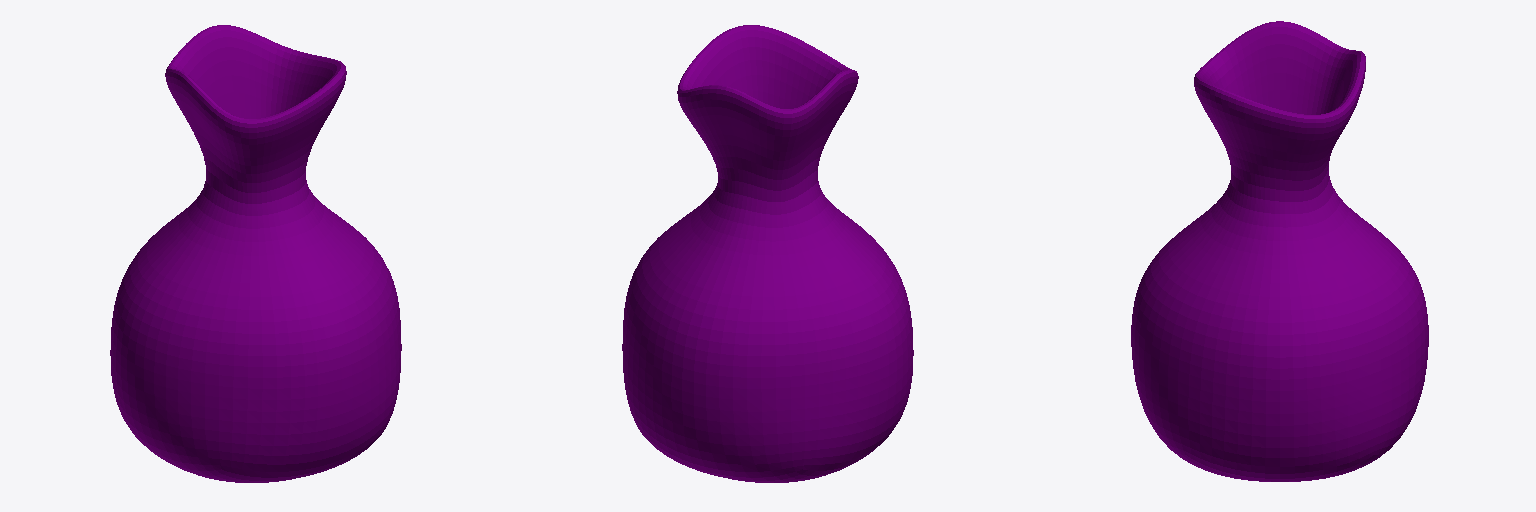
The model's file is pouch_bawang.obj.
The picture shows the model from 3 angles: view 1: azimuth 30°, elevation 25°; view 2: azimuth 150°, elevation 25°; view 3: azimuth 270°, elevation 25°; orthographic projection.
Visible parts, largest first — view 1: Cube.001; view 2: Cube.001; view 3: Cube.001.
Boxes of the visible parts, box(x1,y1,x2,y2) form: Cube.001: box(110, 25, 401, 482); Cube.001: box(622, 25, 913, 482); Cube.001: box(1131, 21, 1428, 481).
Size of the model in its own units: 0.2653 by 0.3925 by 0.2653.